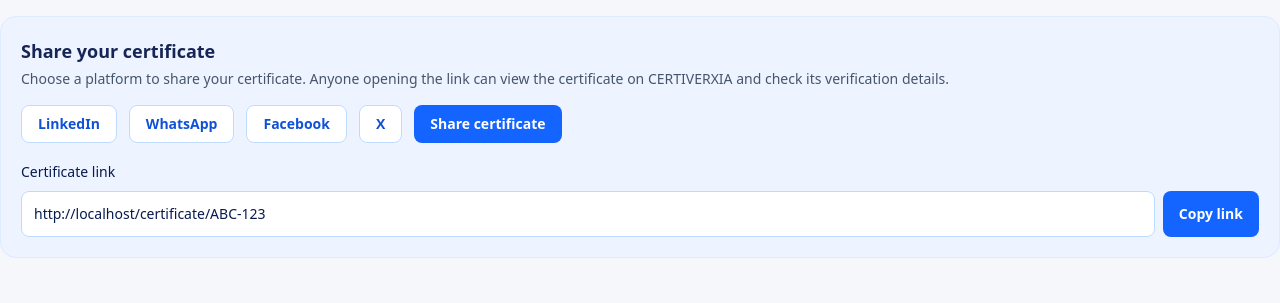
Test case: browsers without native sharing copy the certificate link
Click the button "Share certificate": (488, 124) top-left (414, 105), bottom-right (562, 143)
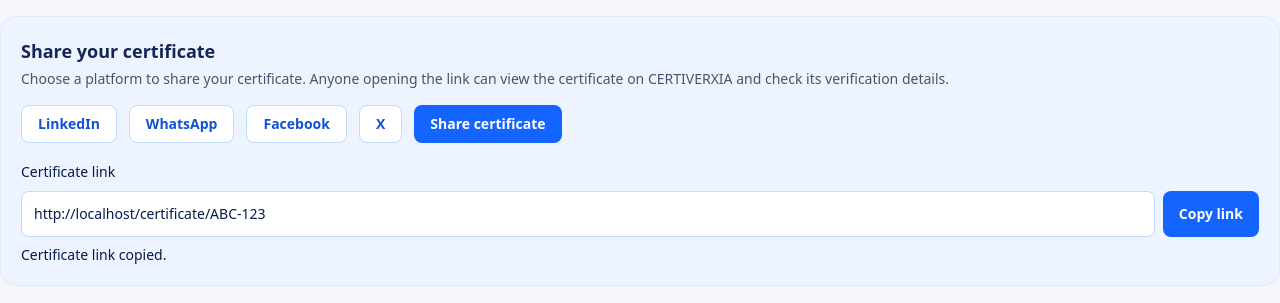
Result: the text "Certificate link copied." is shown at top-left (21, 245), bottom-right (166, 264)
